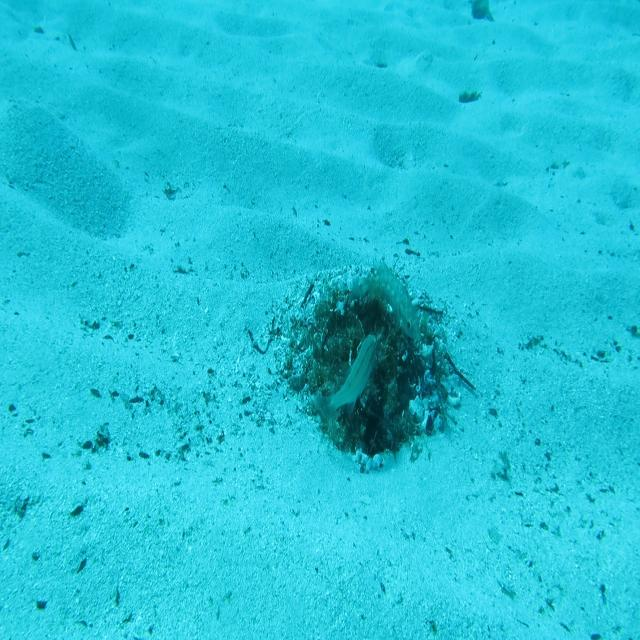SPA: (348, 258, 423, 345)
core_nest: (348, 295, 397, 345)
female: (316, 328, 378, 424)
nest: (263, 256, 473, 482)
vegetation: (466, 0, 496, 26), (456, 88, 484, 108)
